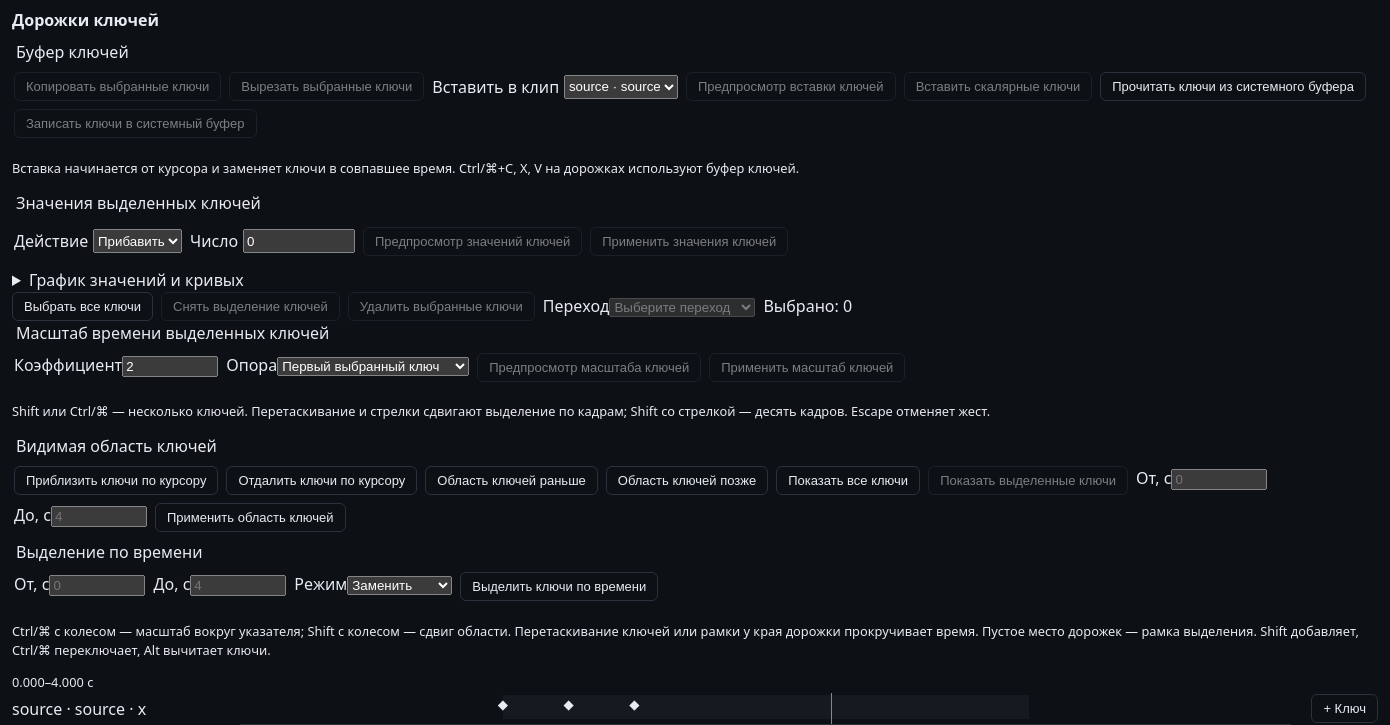
Test: discards a prepared paste on target change
Click the button "Выбрать все ключи" at (82, 306), box [12,292,153,321]
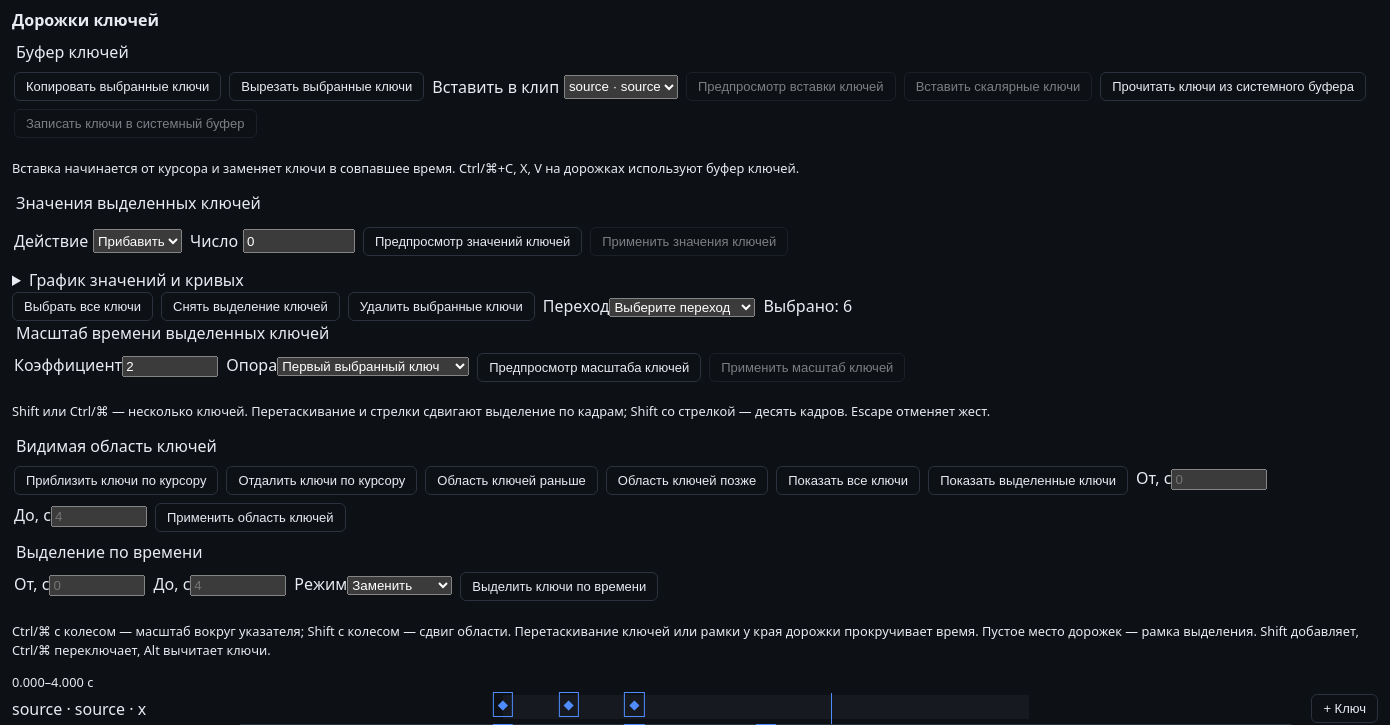
Click the button "Копировать выбранные ключи" at (118, 86), box [14,72,221,101]
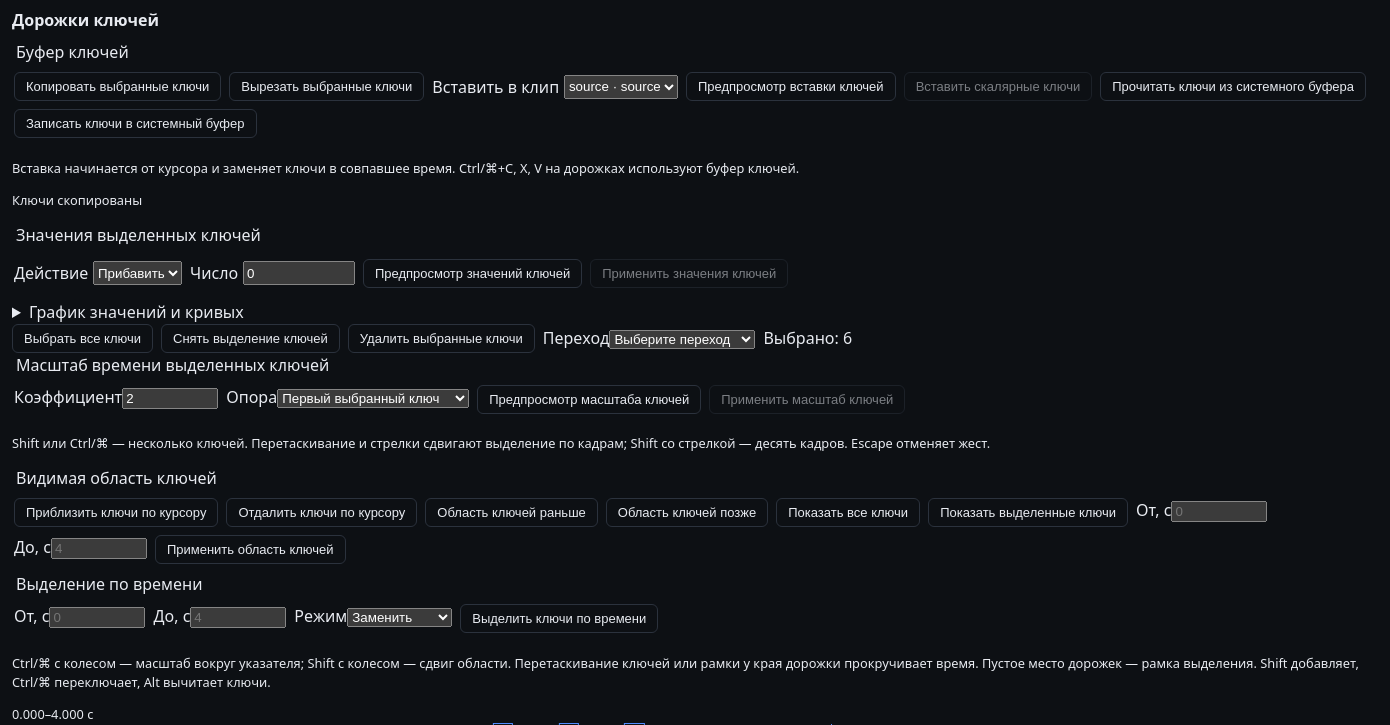
Select "target · target" in the dropdown named "Клип для вставки скалярных ключей" at (621, 86), box [564,74,678,98]
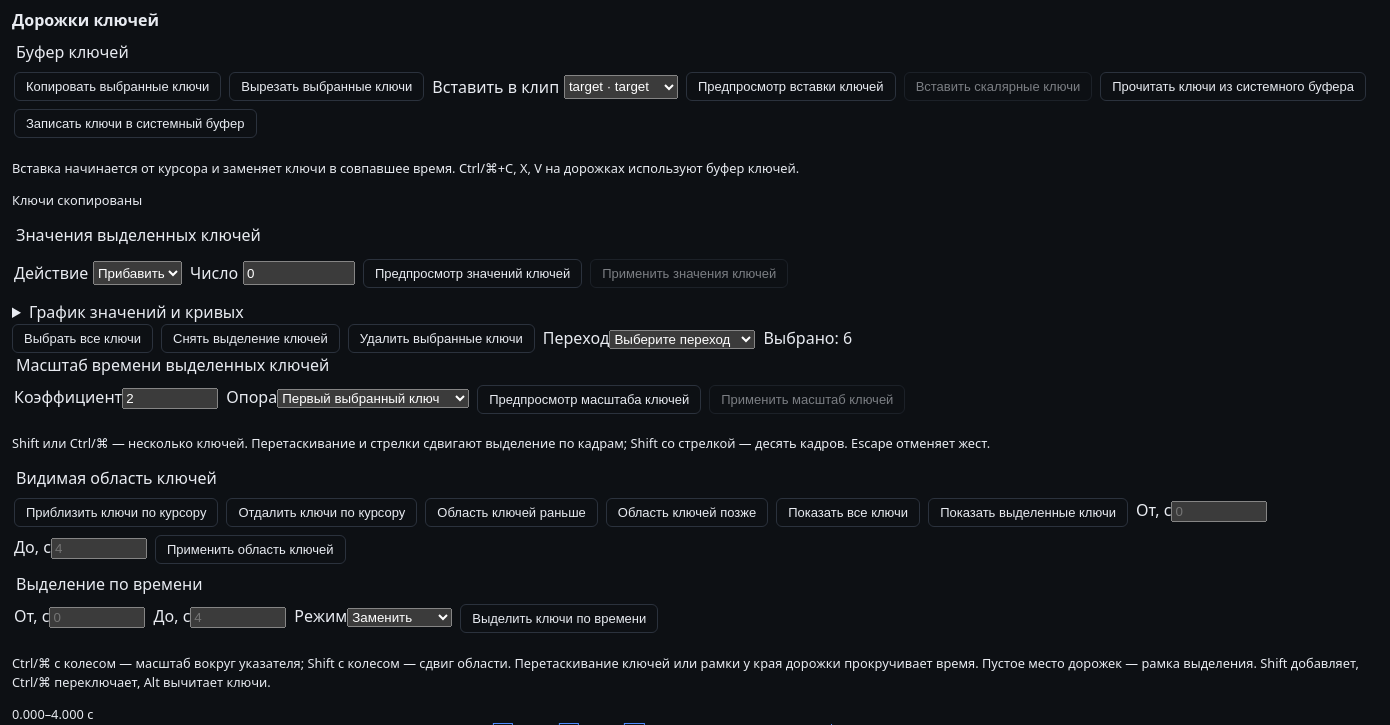
Click the button "Предпросмотр вставки ключей" at (791, 86), box [686,72,896,101]
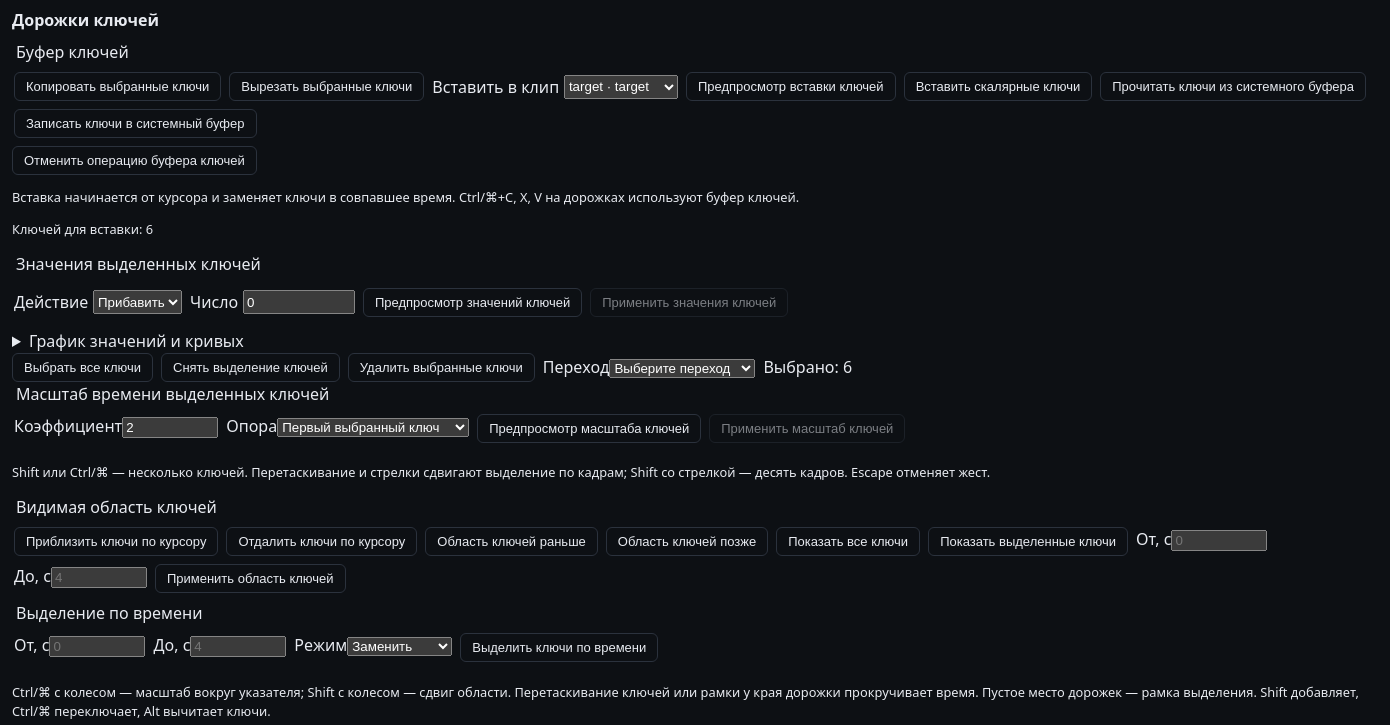
Select "source · source" in the dropdown named "Клип для вставки скалярных ключей" at (621, 86), box [564,74,678,98]
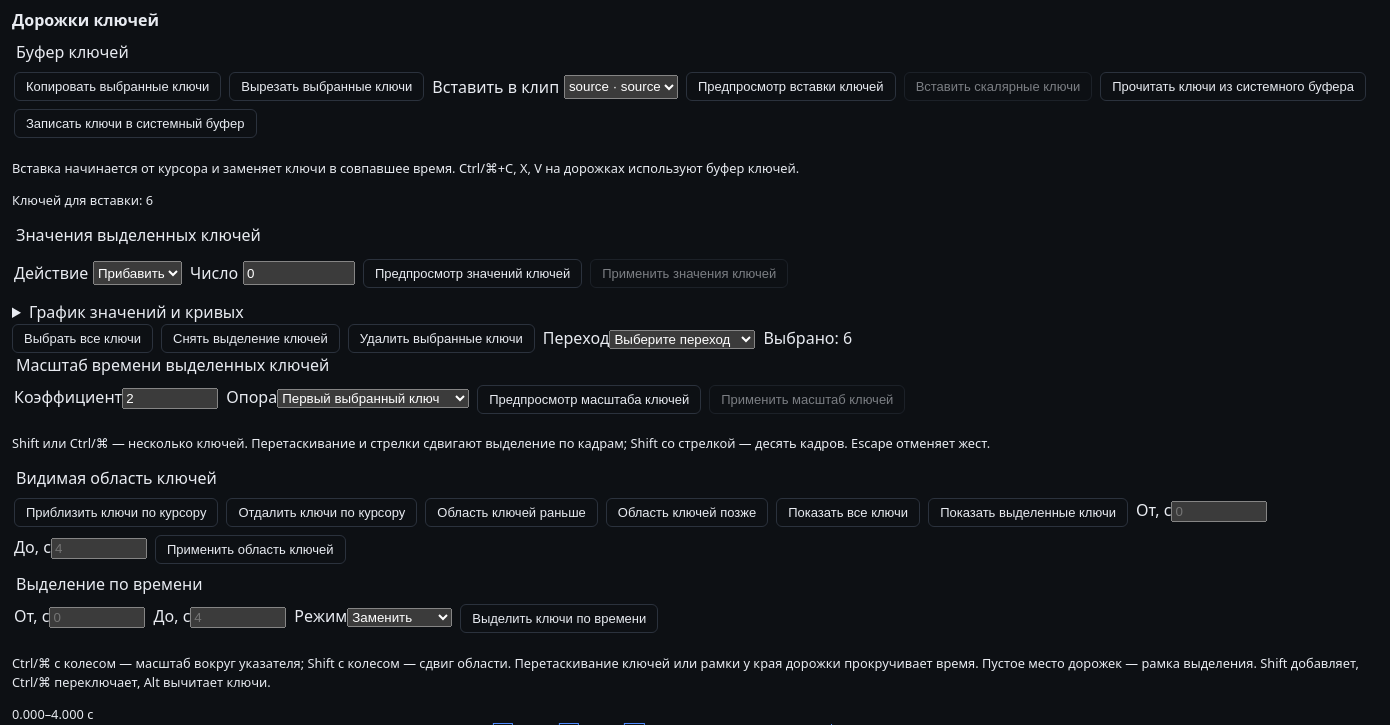
Expected: the button "Вставить скалярные ключи" is disabled, [904,72,1092,101]
